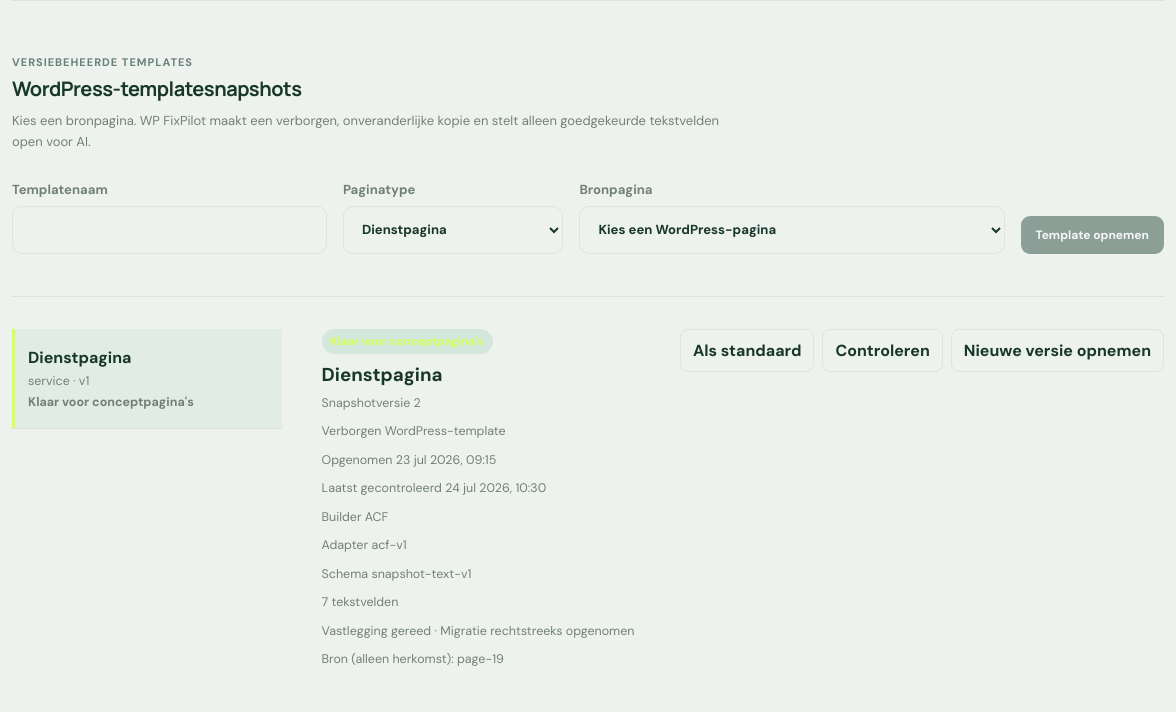
Test case: BlueprintSettingsPanel › reloads persisted stale state after validation fails
What coordinates should you click on to do the following:
click the button "Controleren"
I would click on:
 (883, 350)
Its box is [822,329,943,372].
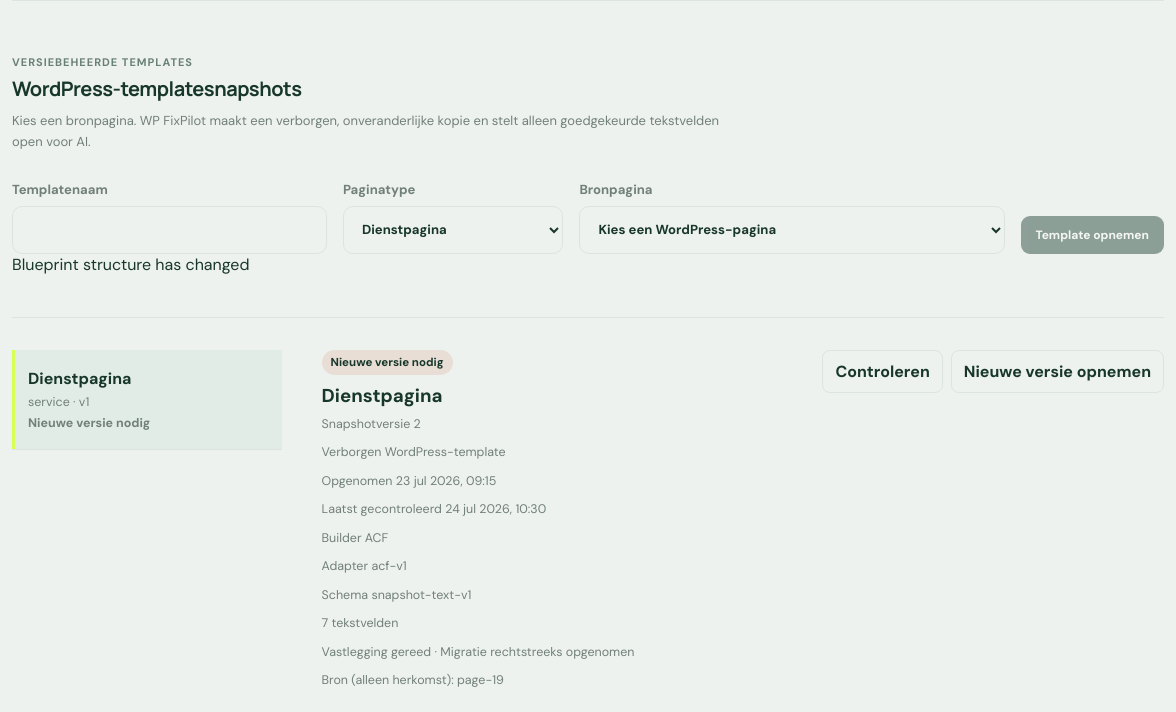
Expected: the text "Nieuwe versie nodig" is shown 2 times, [28,415,150,431]; [322,350,453,375]
Expected: the text "Blueprint structure has changed" is shown, [12,254,250,275]
